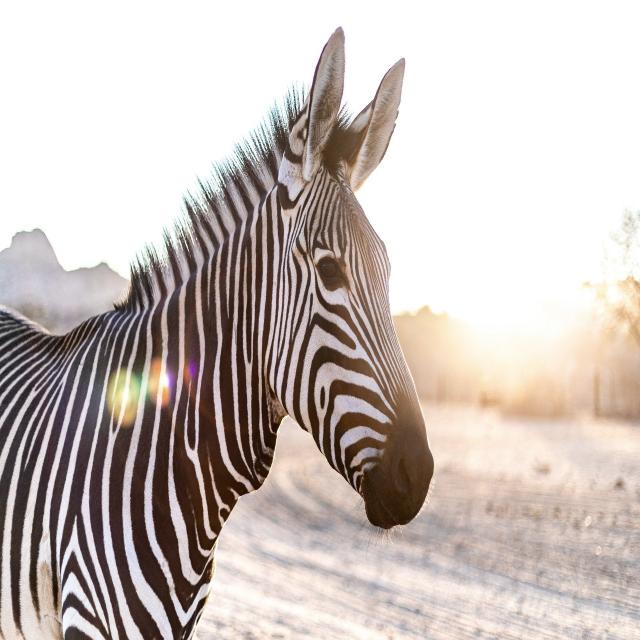zebra: (0, 30, 433, 640), (319, 285, 325, 292)
